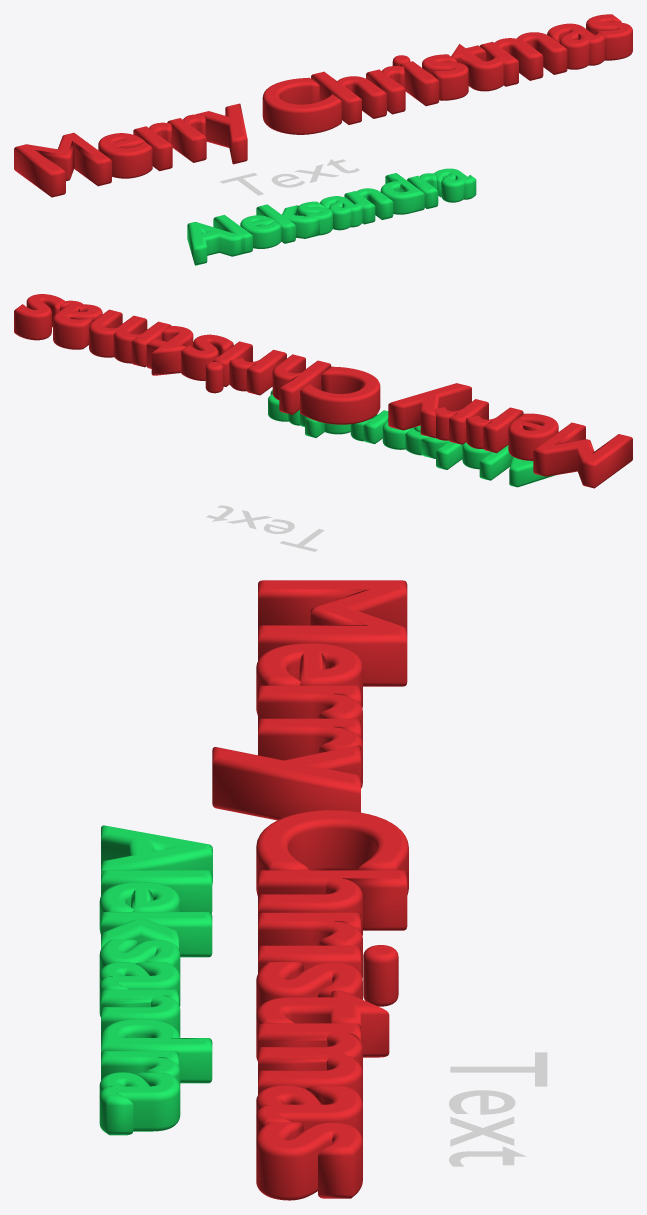
File: Alex.glb
3 renders of one model, top to bottom at view 1: azimuth 30°, elevation 25°; view 2: azimuth 150°, elevation 25°; view 3: azimuth 270°, elevation 25°, orthographic. The views are drawn at different scales.
Parts seen in each view (by area): view 1: Text, Text.002, Text.001; view 2: Text, Text.002, Text.001; view 3: Text, Text.002, Text.001.
Part boxes in pixels (x1,y1,x2,y2): Text: [14, 14, 632, 197]; Text.002: [187, 168, 476, 265]; Text.001: [220, 159, 359, 195]; Text: [14, 294, 632, 488]; Text.002: [268, 390, 556, 487]; Text.001: [206, 505, 324, 551]; Text: [212, 580, 408, 1200]; Text.002: [99, 825, 212, 1135]; Text.001: [449, 1052, 547, 1166].
Bounding box in the file's own units: 9.52 × 1.86 × 3.14.
